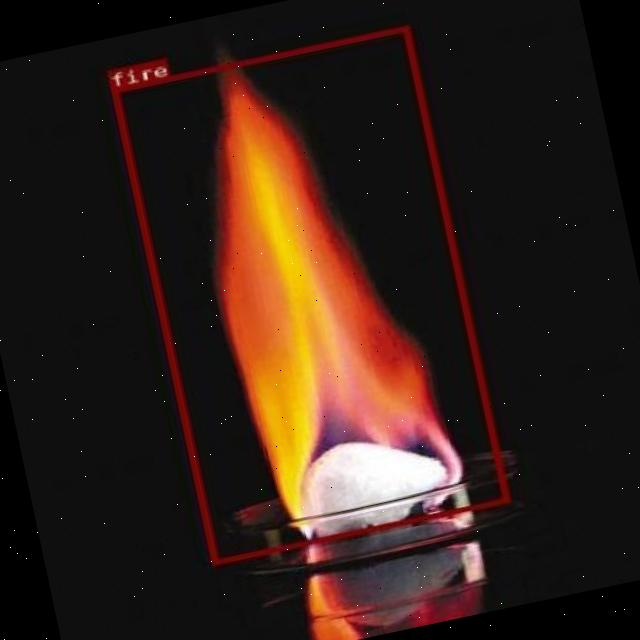fire: (109, 24, 509, 565)
